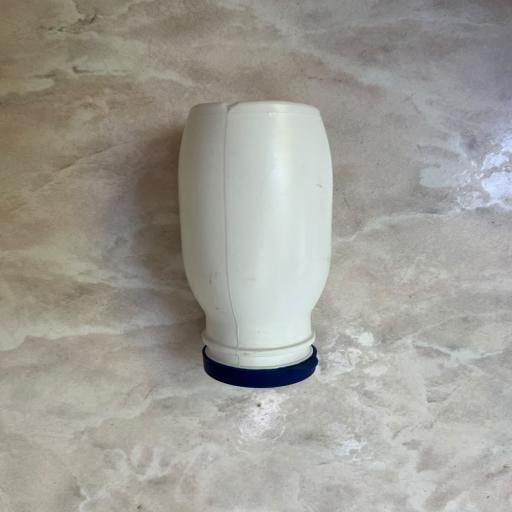HDPE: (144, 88, 416, 424)
